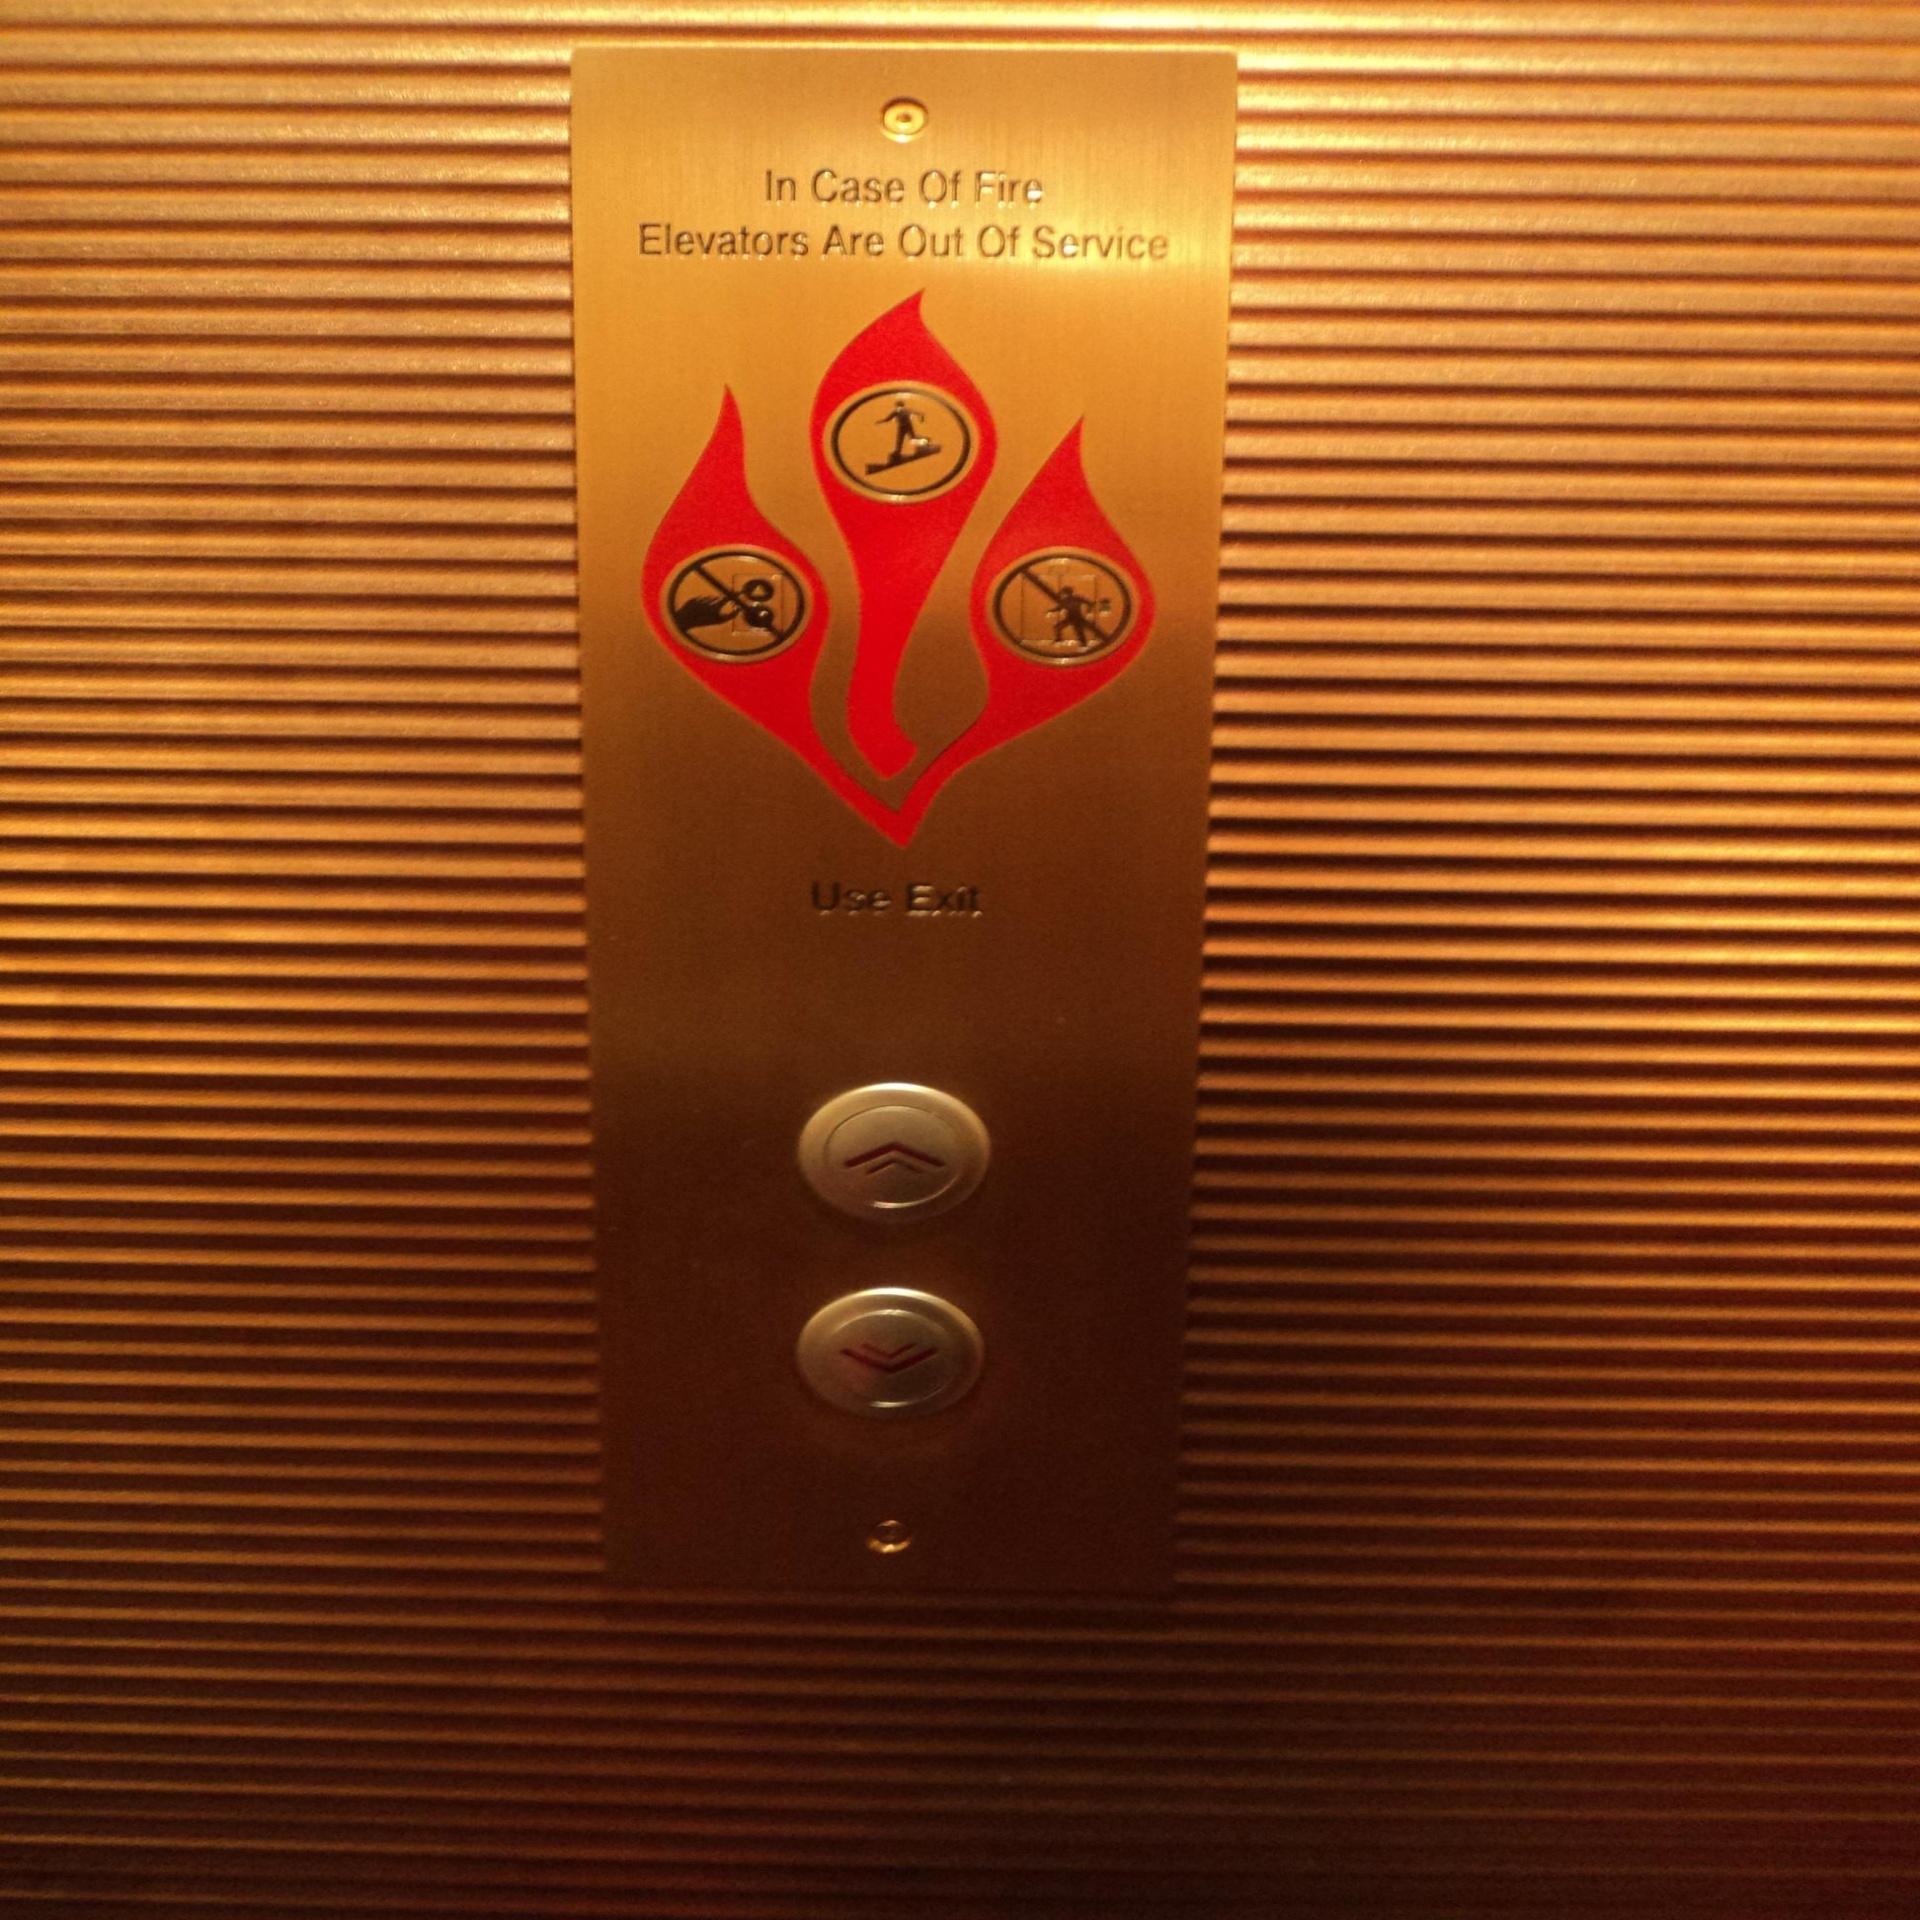down: (784, 1276, 993, 1442)
up: (788, 1073, 999, 1238)
